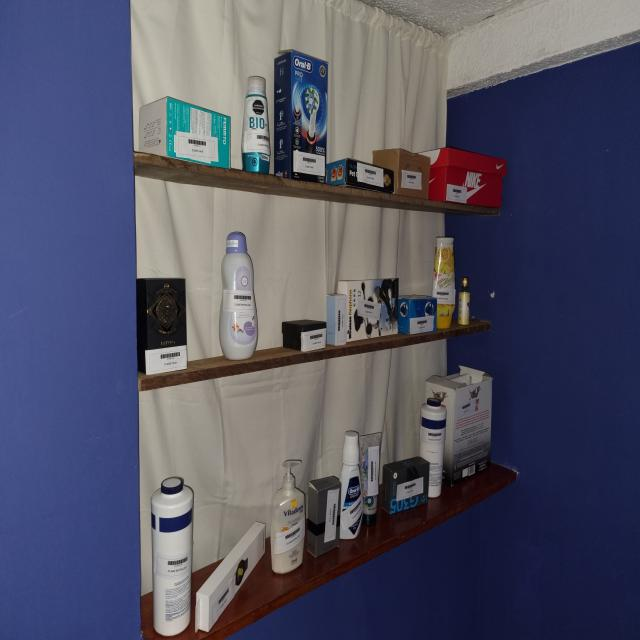botella: (151, 476, 194, 636), (219, 231, 258, 360), (270, 460, 305, 573), (241, 76, 270, 174), (419, 397, 447, 498), (340, 431, 363, 539), (432, 237, 456, 329), (359, 432, 382, 525), (458, 277, 470, 325)
caja: (425, 366, 493, 484), (196, 522, 266, 631), (274, 50, 328, 182), (137, 97, 231, 168), (420, 147, 506, 208), (136, 278, 187, 374), (338, 278, 399, 342), (372, 148, 431, 199), (306, 476, 341, 557), (381, 457, 429, 514), (326, 158, 394, 194), (398, 295, 437, 334), (282, 320, 326, 352), (326, 294, 347, 346)
